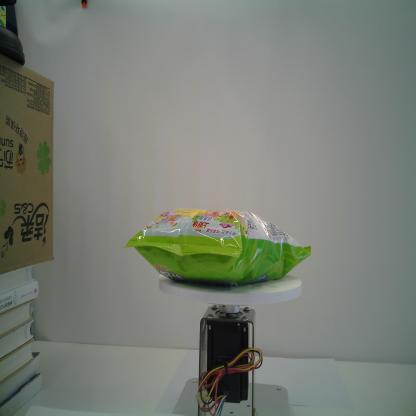Puffed Food: (123, 207, 312, 288)
